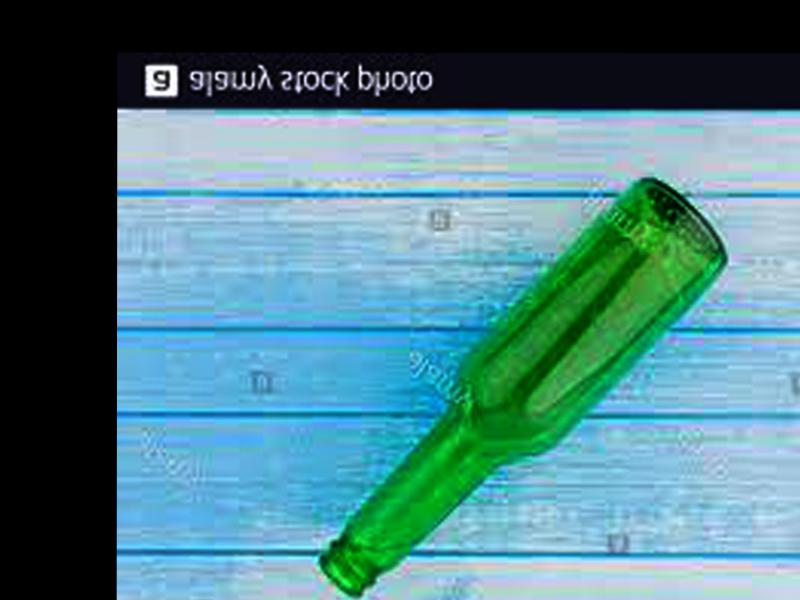Beer: (315, 170, 731, 599)
